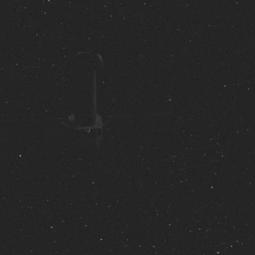xmm_newton: (65, 39, 131, 163)
